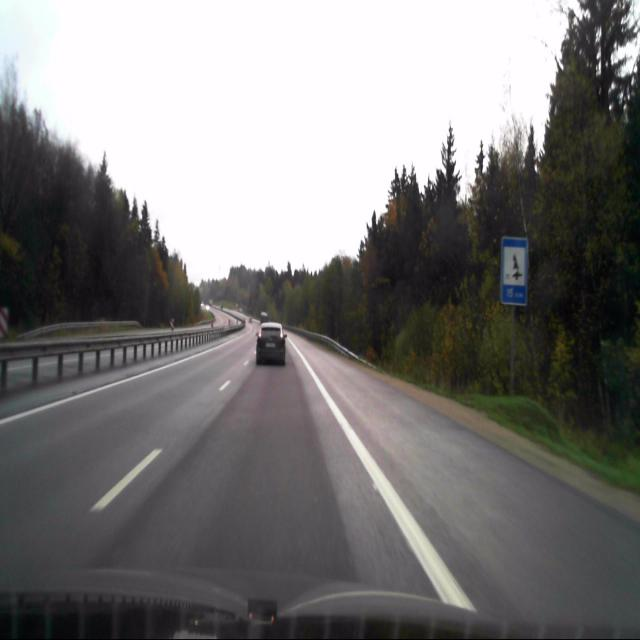object: (510, 310, 515, 398)
road sign: (499, 237, 528, 306)
